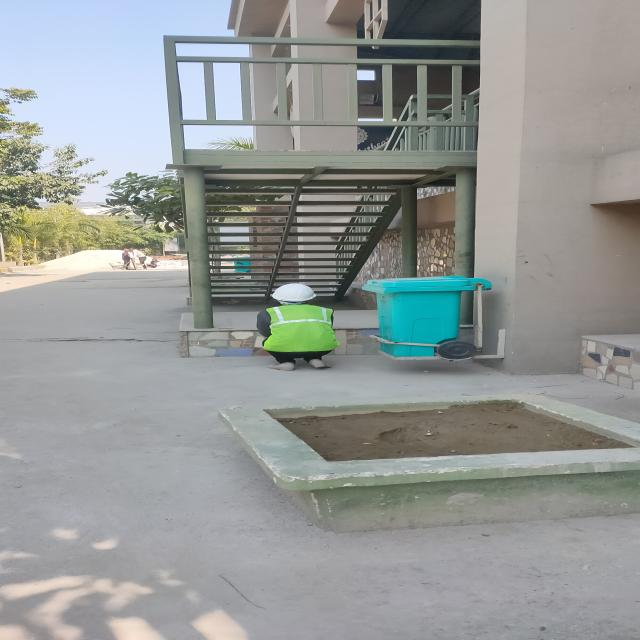safe: (256, 283, 340, 371)
